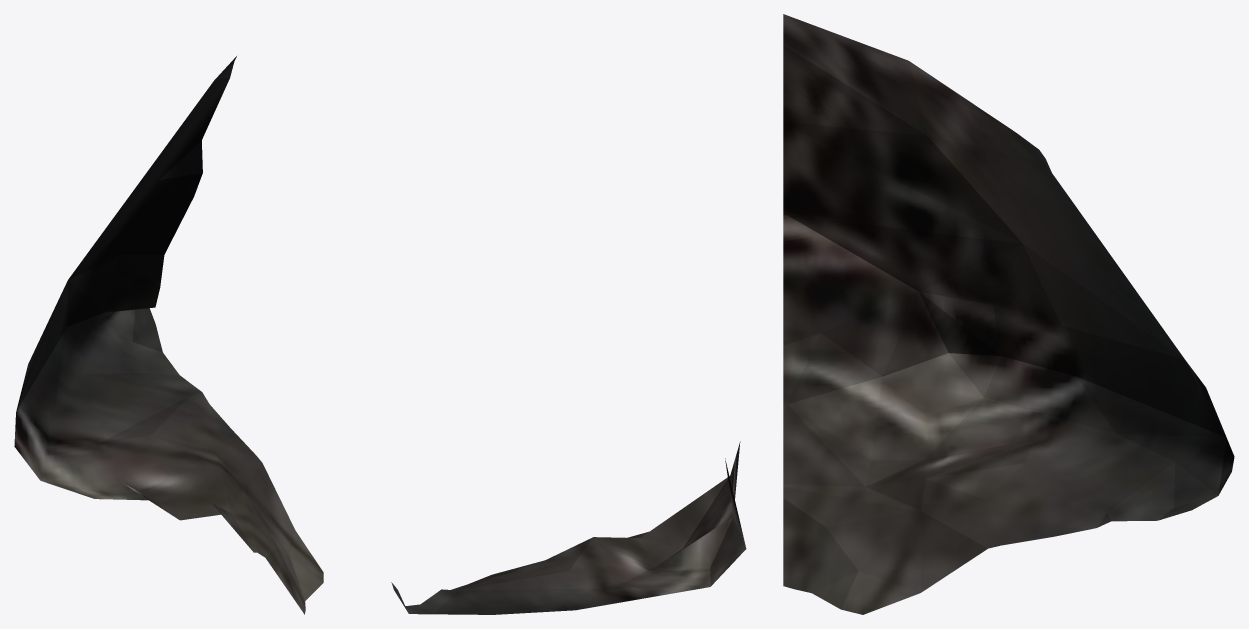
The picture shows the model from 3 angles, left to right: view 1: azimuth 30°, elevation 25°; view 2: azimuth 150°, elevation 25°; view 3: azimuth 270°, elevation 25°; orthographic projection. The views are drawn at different scales.
Bounding box in the file's own units: 0.1912 × 0.4376 × 0.2977.
Materials: 1 (1 with a texture image).
